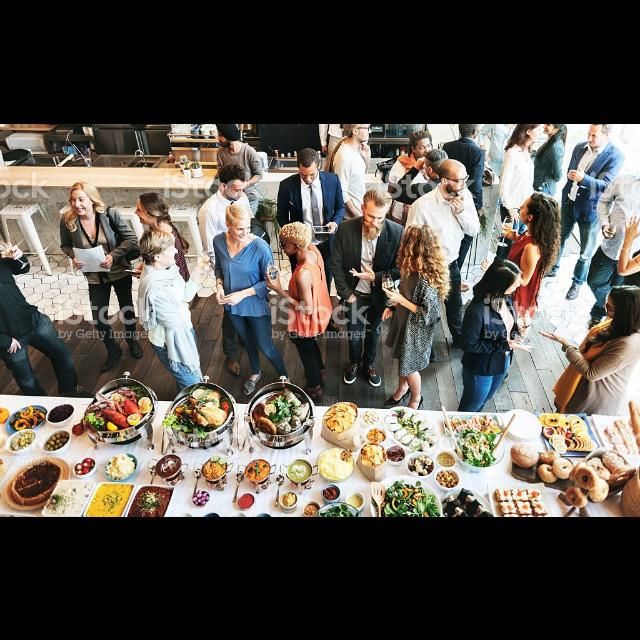head: (140, 230, 180, 266), (361, 188, 393, 232), (132, 192, 170, 226), (437, 158, 469, 196), (279, 222, 313, 256), (219, 162, 247, 202), (224, 203, 252, 241), (406, 223, 434, 260), (519, 192, 551, 224), (492, 260, 522, 294), (69, 182, 97, 216), (298, 148, 322, 185), (426, 148, 450, 178), (0, 226, 18, 264), (588, 123, 614, 147), (412, 131, 434, 159), (344, 122, 374, 142), (217, 123, 239, 147), (520, 123, 542, 143), (459, 123, 481, 139), (542, 124, 562, 134), (338, 122, 357, 132)
person: (0, 214, 96, 416), (196, 160, 272, 378), (58, 180, 144, 372), (453, 258, 533, 462), (405, 156, 483, 362), (211, 202, 293, 396), (329, 188, 409, 386), (538, 124, 626, 302), (133, 228, 214, 416), (487, 189, 563, 383), (380, 222, 452, 412), (275, 146, 347, 324), (264, 220, 334, 402), (390, 146, 456, 330), (122, 190, 192, 358), (388, 128, 447, 298), (323, 123, 377, 281), (441, 122, 487, 292), (214, 123, 266, 261), (496, 123, 544, 269), (317, 123, 371, 231), (530, 123, 568, 253)
